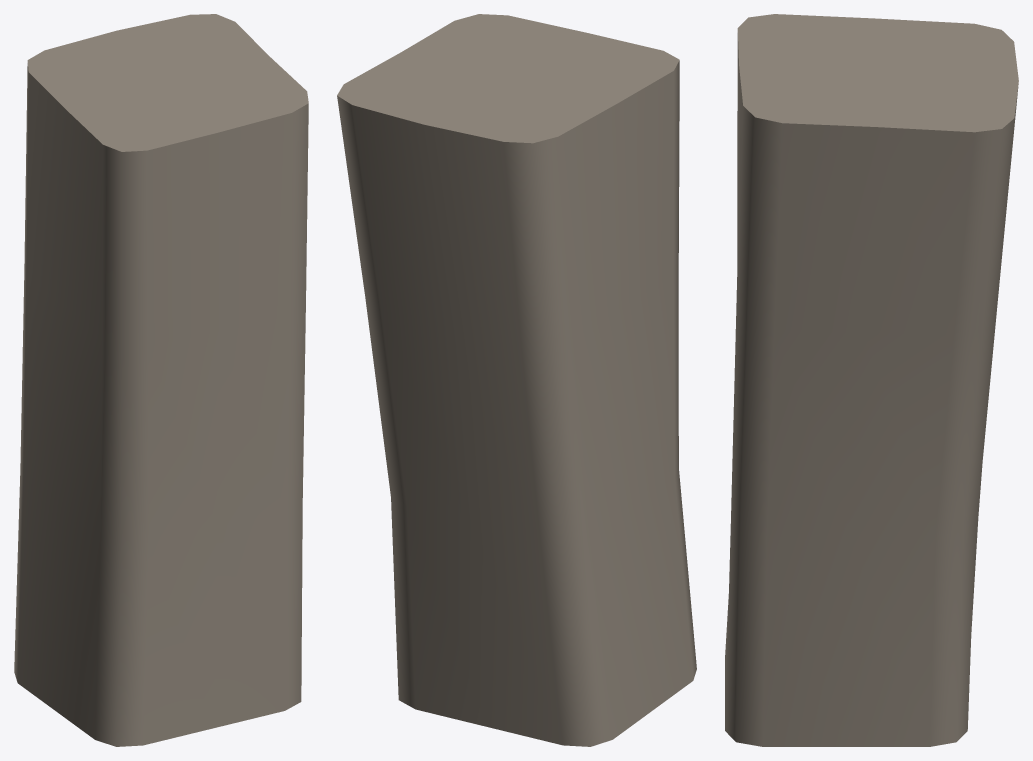
File: MSH_Building_Pillar_Sml_001.glb
The picture shows the model from 3 angles, left to right: view 1: azimuth 30°, elevation 25°; view 2: azimuth 150°, elevation 25°; view 3: azimuth 270°, elevation 25°; orthographic projection. The views are drawn at different scales.
Parts seen in each view (by area): view 1: MSH_Building_Pillar_Sml_001; view 2: MSH_Building_Pillar_Sml_001; view 3: MSH_Building_Pillar_Sml_001.
Boxes of the visible parts, x1=… form: MSH_Building_Pillar_Sml_001: x1=14, y1=14, x2=308, y2=746; MSH_Building_Pillar_Sml_001: x1=337, y1=14, x2=696, y2=746; MSH_Building_Pillar_Sml_001: x1=725, y1=14, x2=1018, y2=746.
Bounding box in the file's own units: 0.7842 × 1.85 × 0.7777.
